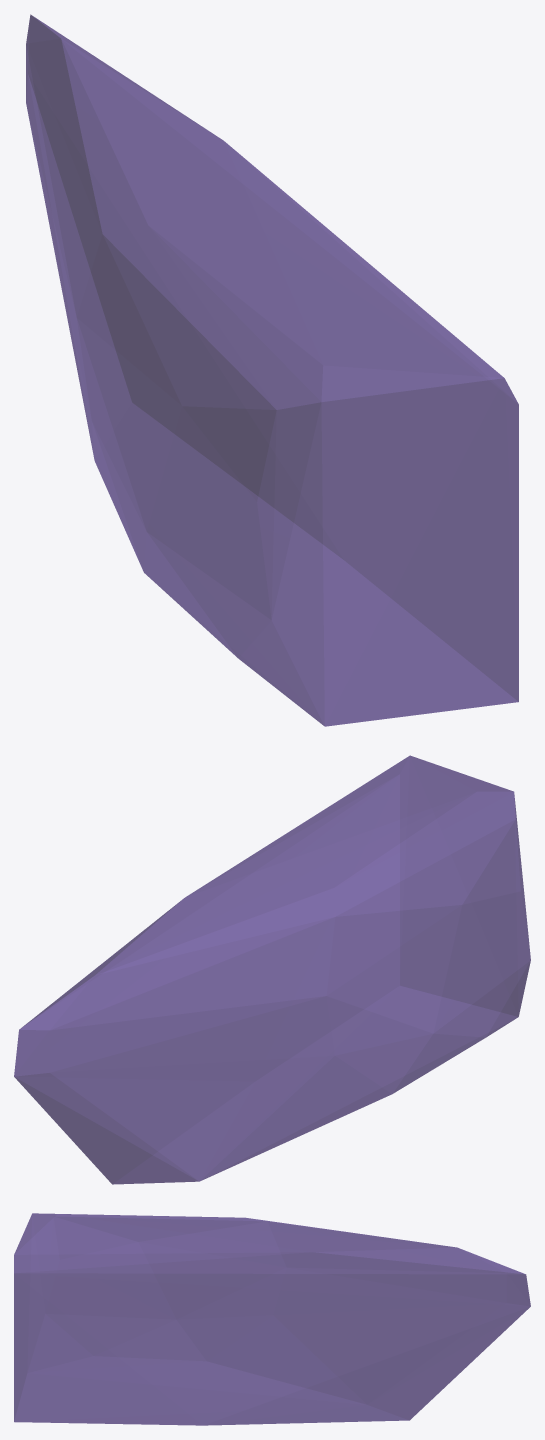
3 renders of one model, top to bottom at view 1: azimuth 30°, elevation 25°; view 2: azimuth 150°, elevation 25°; view 3: azimuth 270°, elevation 25°, orthographic. The views are drawn at different scales.
Visible parts, largest first — view 1: Shape_IndexedFaceSet.012_Shape_IndexedFaceSet.17990; view 2: Shape_IndexedFaceSet.012_Shape_IndexedFaceSet.17990; view 3: Shape_IndexedFaceSet.012_Shape_IndexedFaceSet.17990.
Part boxes in pixels (x1,y1,x2,y2): Shape_IndexedFaceSet.012_Shape_IndexedFaceSet.17990: (26, 14, 518, 726); Shape_IndexedFaceSet.012_Shape_IndexedFaceSet.17990: (14, 755, 530, 1184); Shape_IndexedFaceSet.012_Shape_IndexedFaceSet.17990: (14, 1213, 530, 1425).
Size of the model in its own units: 0.129 by 0.1743 by 0.4771.
